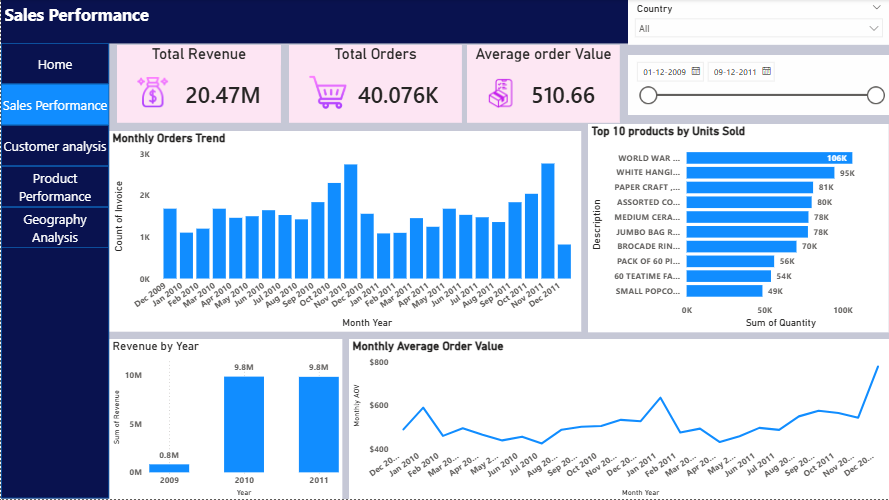

This screenshot's page, from the dashboard's own definition file:
{"tool":"powerbi","page":{"name":"Sales performance  ","canvas":[1280,720],"ordinal":1},"visuals":[{"type":"cardVisual","title":"Total Revenue","fields":{"Data":["Sum(ecommerce_sales_cleaned.Revenue)"]},"box":[167,66.2,236.2,112.3],"z":0},{"type":"cardVisual","title":"Total Orders","fields":{"Data":["Count(ecommerce_sales_cleaned.Invoice)"]},"box":[414.7,66.2,249.1,112.3],"z":1000},{"type":"cardVisual","title":"Average order Value","fields":{"Data":["ecommerce_sales_cleaned.average_order_value"]},"box":[671,66.2,220.3,112.3],"z":2000},{"type":"clusteredColumnChart","title":"Monthly Orders Trend","fields":{"Category":["ecommerce_sales_cleaned.Month Year"],"Y":["Count(ecommerce_sales_cleaned.Invoice)"]},"box":[155.5,190.1,679.7,289.4],"z":3000},{"type":"lineChart","title":"Monthly Average Order Value ","fields":{"Category":["ecommerce_sales_cleaned.Month Year"],"Y":["ecommerce_sales_cleaned.Monthly AOV"]},"box":[501.7,489,778.1,231],"z":4000},{"type":"clusteredColumnChart","title":"Revenue by Year","fields":{"Category":["ecommerce_sales_cleaned.Year"],"Y":["Sum(ecommerce_sales_cleaned.Revenue)"]},"box":[155.9,489,335.9,231],"z":5000},{"type":"clusteredBarChart","title":"Top 10 products by Units Sold ","fields":{"Category":["ecommerce_sales_cleaned.Description"],"Y":["Sum(ecommerce_sales_cleaned.Quantity)"]},"box":[845.3,180,433.4,299.5],"z":6000},{"type":"textbox","box":[0,0,1279.8,63.8],"z":7000},{"type":"slicer","fields":{"Values":["ecommerce_sales_cleaned.Country"]},"box":[902.9,0,377.3,66.2],"z":8000},{"type":"slicer","title":"Data Range","fields":{"Values":["ecommerce_sales_cleaned.InvoiceDate"]},"box":[902.9,80.6,377.3,85],"z":9000},{"type":"shape","box":[0,63.9,155.7,655.7],"z":10000},{"type":"shape","box":[0,63.4,155.5,59],"z":11000},{"type":"shape","box":[0,122.4,155.5,59],"z":12000},{"type":"shape","box":[0,181.4,155.5,59],"z":13000},{"type":"shape","box":[0,240.5,155.5,59],"z":14000},{"type":"shape","box":[0,299.5,155.5,59],"z":15000}]}

Visuals, with their boxes on the page's 1280x720 design canvas (x1, y1, x2, y2). These are canvas units, not pixel positions in the 889x500 screenshot, which may show the page scaled, cropped or inside an application window:
"Total Revenue" cardVisual: bbox(167, 66, 403, 178)
"Total Orders" cardVisual: bbox(415, 66, 664, 178)
"Average order Value" cardVisual: bbox(671, 66, 891, 178)
"Monthly Orders Trend" clusteredColumnChart: bbox(156, 190, 835, 480)
"Monthly Average Order Value " lineChart: bbox(502, 489, 1280, 720)
"Revenue by Year" clusteredColumnChart: bbox(156, 489, 492, 720)
"Top 10 products by Units Sold " clusteredBarChart: bbox(845, 180, 1279, 480)
textbox: bbox(0, 0, 1280, 64)
slicer - ecommerce_sales_cleaned.Country: bbox(903, 0, 1280, 66)
"Data Range" slicer: bbox(903, 81, 1280, 166)
shape: bbox(0, 64, 156, 720)
shape: bbox(0, 63, 156, 122)
shape: bbox(0, 122, 156, 181)
shape: bbox(0, 181, 156, 240)
shape: bbox(0, 240, 156, 300)
shape: bbox(0, 300, 156, 358)
